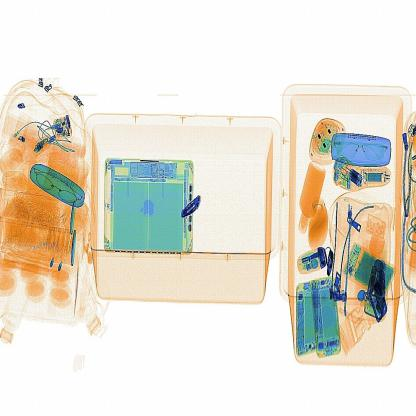knife: (178, 192, 206, 223)
